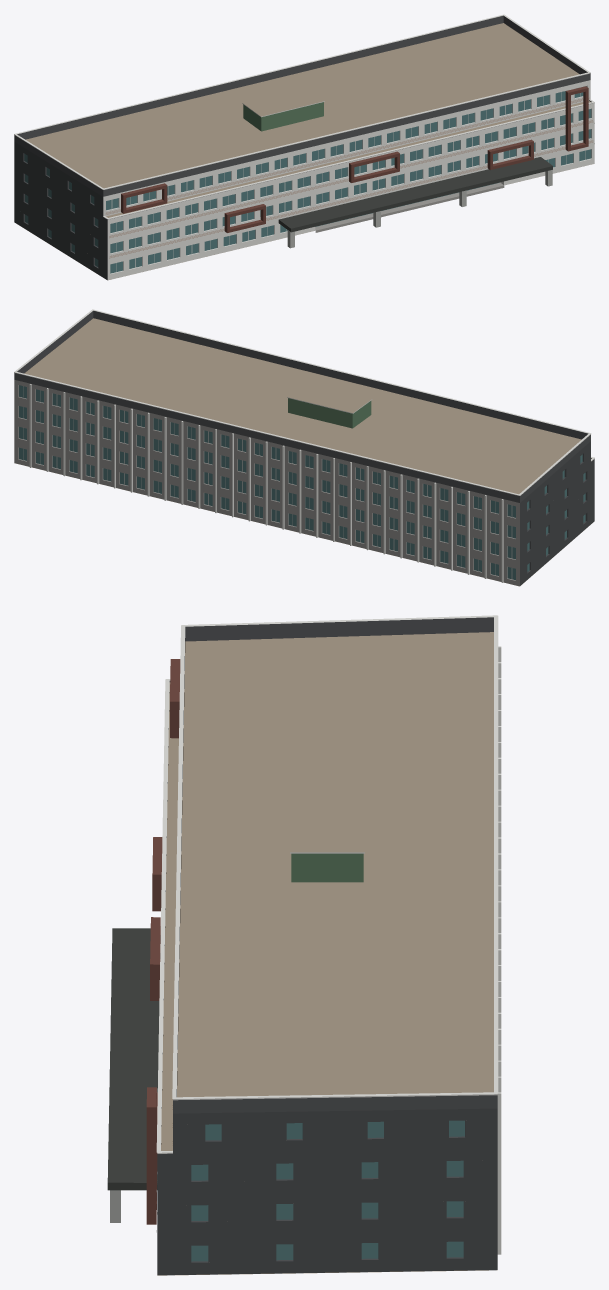
3 renders of one model, top to bottom at view 1: azimuth 30°, elevation 25°; view 2: azimuth 150°, elevation 25°; view 3: azimuth 270°, elevation 25°, orthographic. The views are drawn at different scales.
Parts seen in each view (by area): view 1: humanities__roof, humanities__trim, humanities__glass, humanities__parapet, humanities__wall2, humanities__canopy, humanities__brown, humanities__wood, humanities__penthouse, humanities__entranceThreshold_0, humanities__frame, humanities__column; view 2: humanities__roof, humanities__wall, humanities__glass, humanities__trim, humanities__parapet, humanities__wall2, humanities__frame, humanities__penthouse; view 3: humanities__roof, humanities__wall2, humanities__trim, humanities__canopy, humanities__parapet, humanities__glass, humanities__brown, humanities__penthouse.
Boxes of the visible parts, <box> form: humanities__roof: <box>25,23,591,279</box>; humanities__trim: <box>14,14,594,280</box>; humanities__glass: <box>24,86,591,273</box>; humanities__parapet: <box>14,15,591,219</box>; humanities__wall2: <box>14,142,107,280</box>; humanities__canopy: <box>278,157,552,232</box>; humanities__brown: <box>121,86,588,232</box>; humanities__wood: <box>106,98,592,258</box>; humanities__penthouse: <box>243,102,323,131</box>; humanities__entranceThreshold_0: <box>315,182,504,232</box>; humanities__frame: <box>111,92,585,271</box>; humanities__column: <box>287,170,552,248</box>; humanities__roof: <box>15,318,592,586</box>; humanities__wall: <box>14,380,519,586</box>; humanities__glass: <box>19,385,585,580</box>; humanities__trim: <box>14,309,594,582</box>; humanities__parapet: <box>14,310,591,502</box>; humanities__wall2: <box>520,441,594,585</box>; humanities__frame: <box>23,386,512,579</box>; humanities__penthouse: <box>288,398,371,428</box>; humanities__roof: <box>157,632,497,1275</box>; humanities__wall2: <box>157,1108,497,1275</box>; humanities__trim: <box>156,615,501,1254</box>; humanities__canopy: <box>107,928,159,1190</box>; humanities__parapet: <box>157,617,497,1154</box>; humanities__glass: <box>191,1120,464,1261</box>; humanities__brown: <box>146,659,180,1224</box>; humanities__penthouse: <box>291,853,363,882</box>.
Bounding box in the file's own units: 95.07 × 18 × 32.66.
